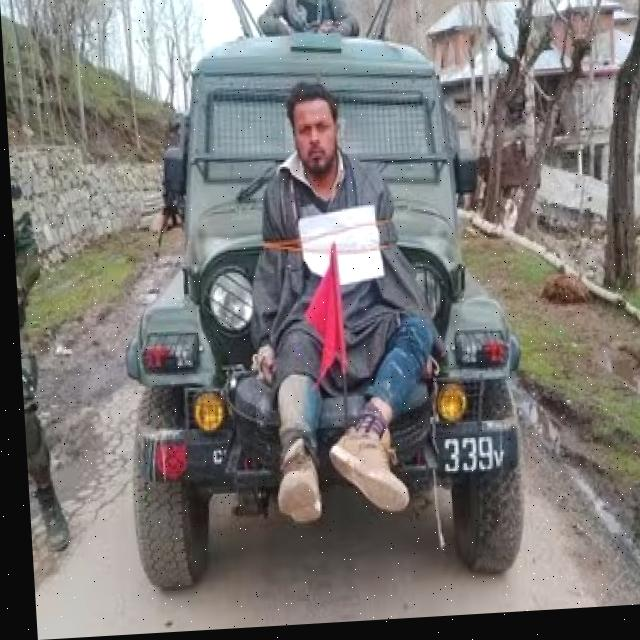unit number: (433, 436, 504, 482)
